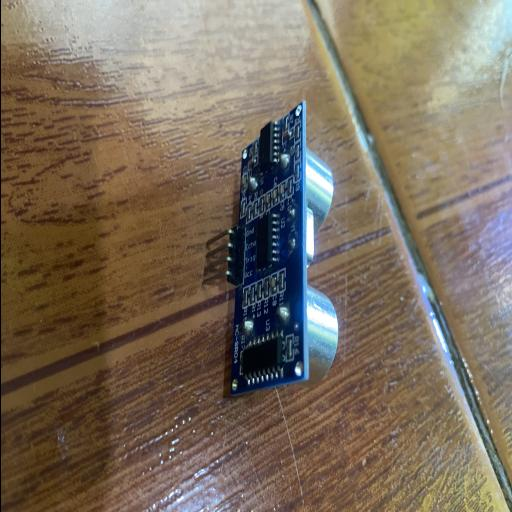Ultrasonic Sensor: (203, 100, 339, 400)
